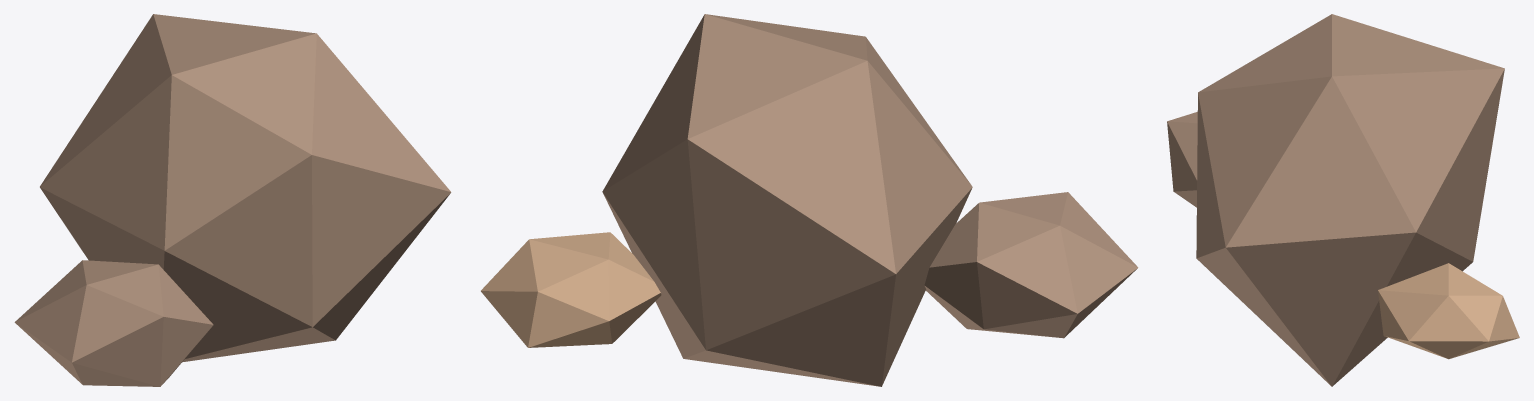
File: RockB.glb
The picture shows the model from 3 angles, left to right: view 1: azimuth 30°, elevation 25°; view 2: azimuth 150°, elevation 25°; view 3: azimuth 270°, elevation 25°; orthographic projection. The views are drawn at different scales.
Parts seen in each view (by area): view 1: RockB; view 2: RockB; view 3: RockB.
Part boxes in pixels (x1,y1,x2,y2): RockB: (14,14,451,386); RockB: (481,14,1138,386); RockB: (1167,14,1519,386).
Bounding box in the file's own units: 5.84 × 3.99 × 4.23.
